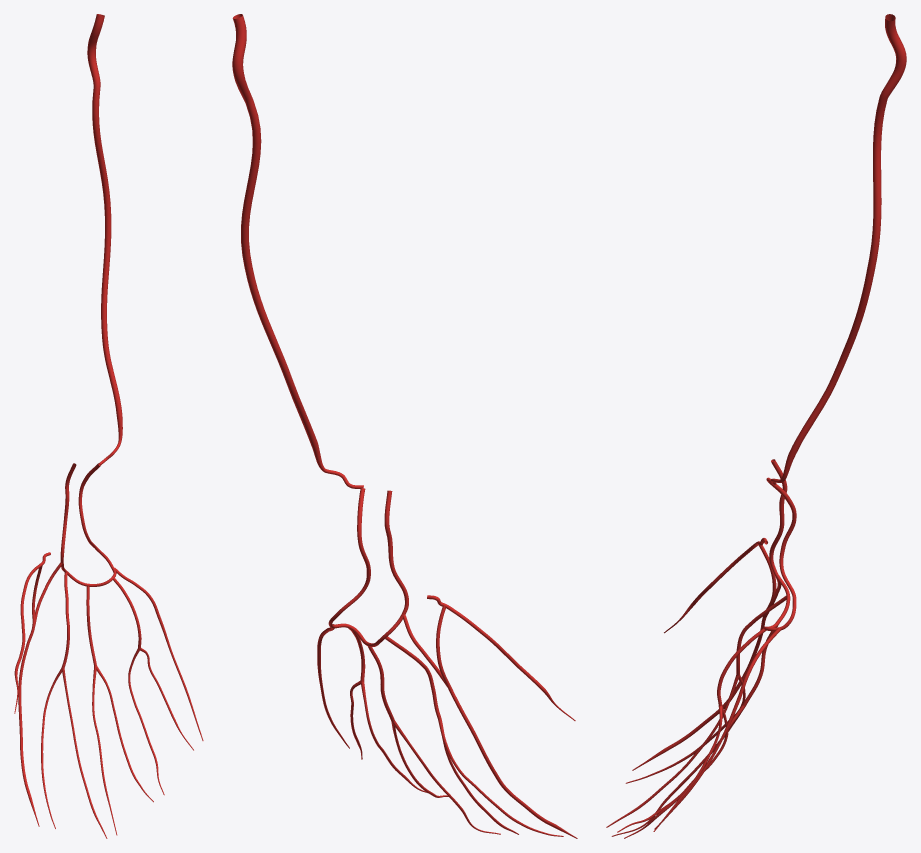
The model's file is circulatorio-ulnar-veins-r.glb.
3 renders of one model, left to right at view 1: azimuth 30°, elevation 25°; view 2: azimuth 150°, elevation 25°; view 3: azimuth 270°, elevation 25°, orthographic. The views are drawn at different scales.
Visible parts, largest first — view 1: Palmar digital veins.r, Ulnar veins.r, Superficial venous palmar arch.r; view 2: Palmar digital veins.r, Ulnar veins.r, Superficial venous palmar arch.r; view 3: Palmar digital veins.r, Ulnar veins.r, Superficial venous palmar arch.r.
Part boxes in pixels (bbox=[...]): Palmar digital veins.r: bbox=[14, 552, 203, 838]; Ulnar veins.r: bbox=[87, 14, 122, 465]; Superficial venous palmar arch.r: bbox=[60, 463, 116, 586]; Palmar digital veins.r: bbox=[317, 595, 577, 838]; Ulnar veins.r: bbox=[232, 14, 363, 488]; Superficial venous palmar arch.r: bbox=[328, 488, 408, 646]; Palmar digital veins.r: bbox=[606, 538, 786, 838]; Ulnar veins.r: bbox=[766, 14, 906, 484]; Superficial venous palmar arch.r: bbox=[762, 459, 796, 631].
Size of the model in its own units: 0.0999 by 0.3671 by 0.1137.
